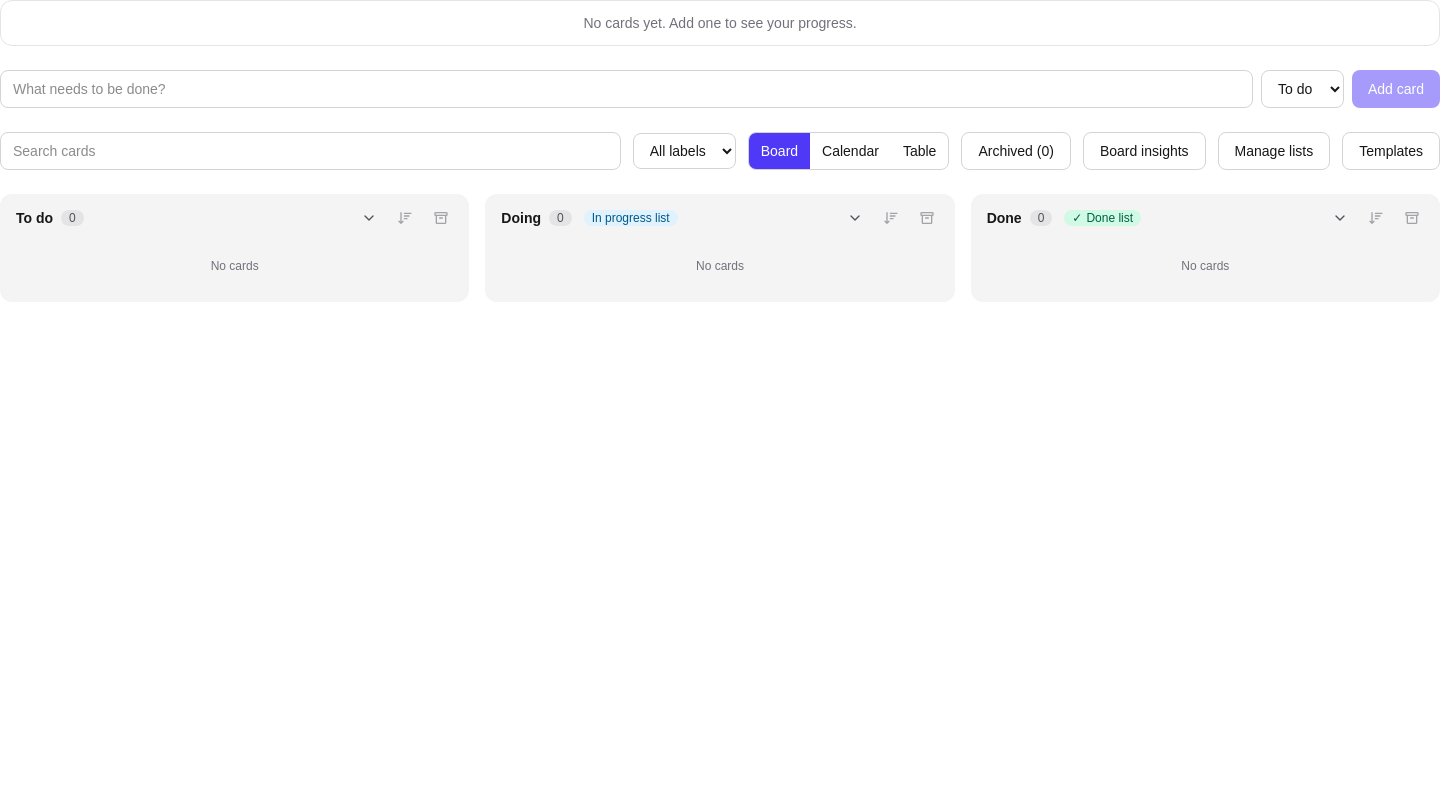
Test: <Board /> insights › shows empty states for a board without data
Click the button "Board insights" at (1144, 151), box [1083,132,1206,170]
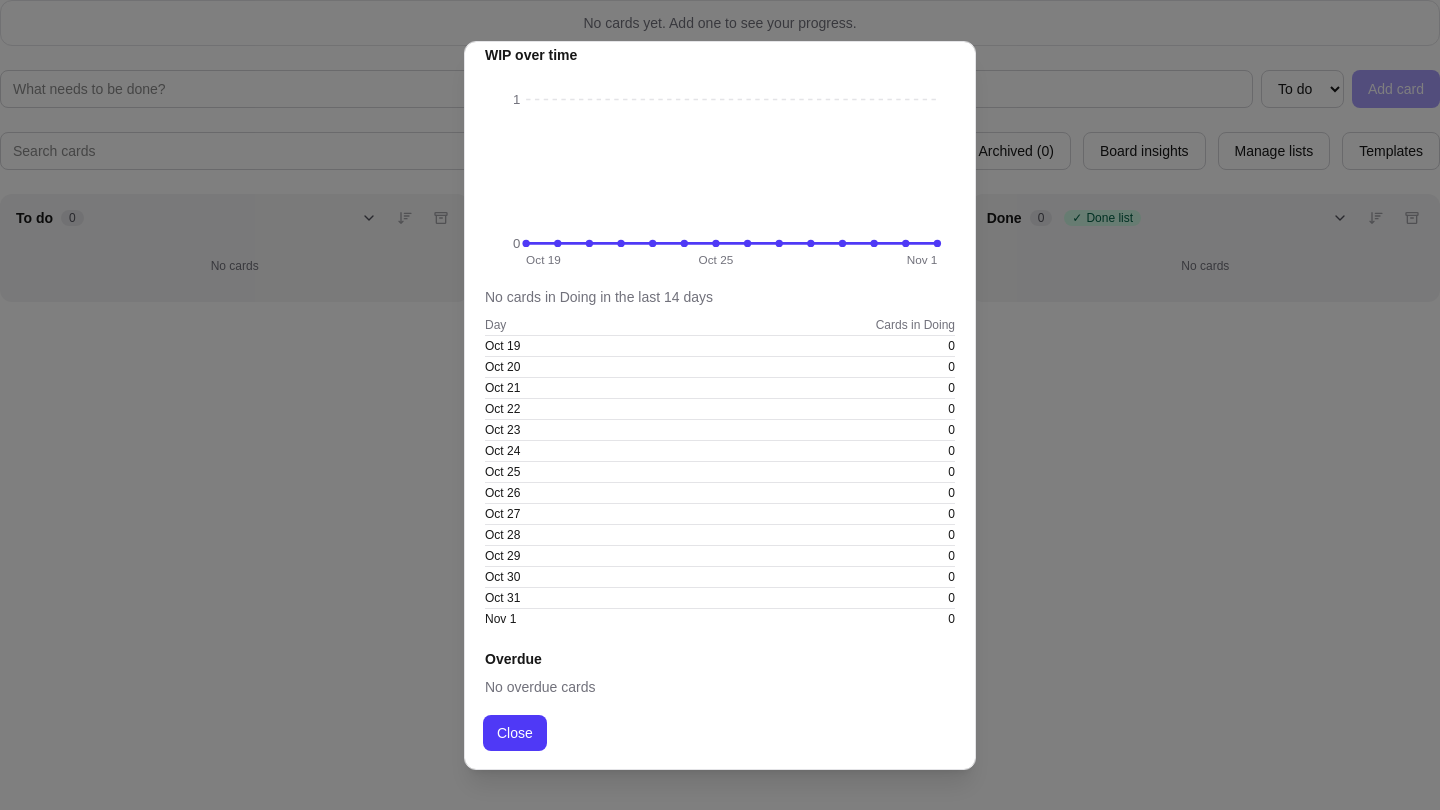
Expected: the text "No overdue cards" is shown, [485,679,596,695]
